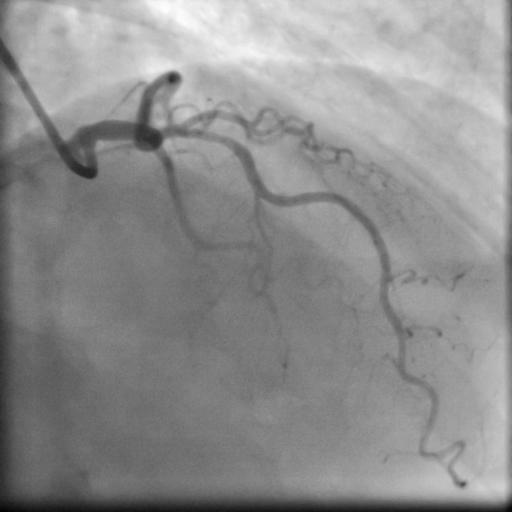Stenosis: (179, 123, 237, 146)
